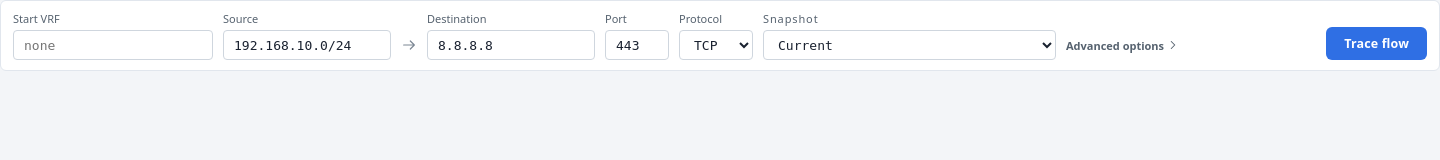
Scenario: Composer start VRF › matches the VRF name case-sensitively
This screenshot has width=1440, height=160.
Type "Hosting" into the field labelled "Start VRF". click: x=113, y=45
box: left=13, top=30, right=213, bottom=60
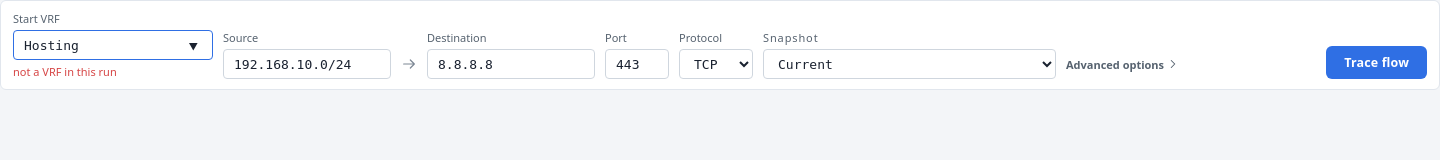
Click the button "Trace flow". click: x=1377, y=62
box: left=1326, top=46, right=1427, bottom=79
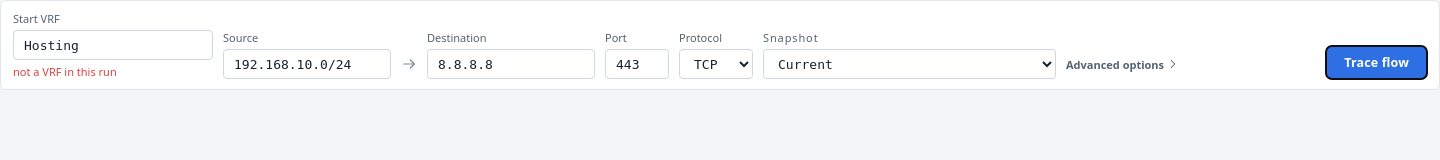
Expected: the field labelled "Start VRF" is marked as invalid, left=13, top=30, right=213, bottom=60
